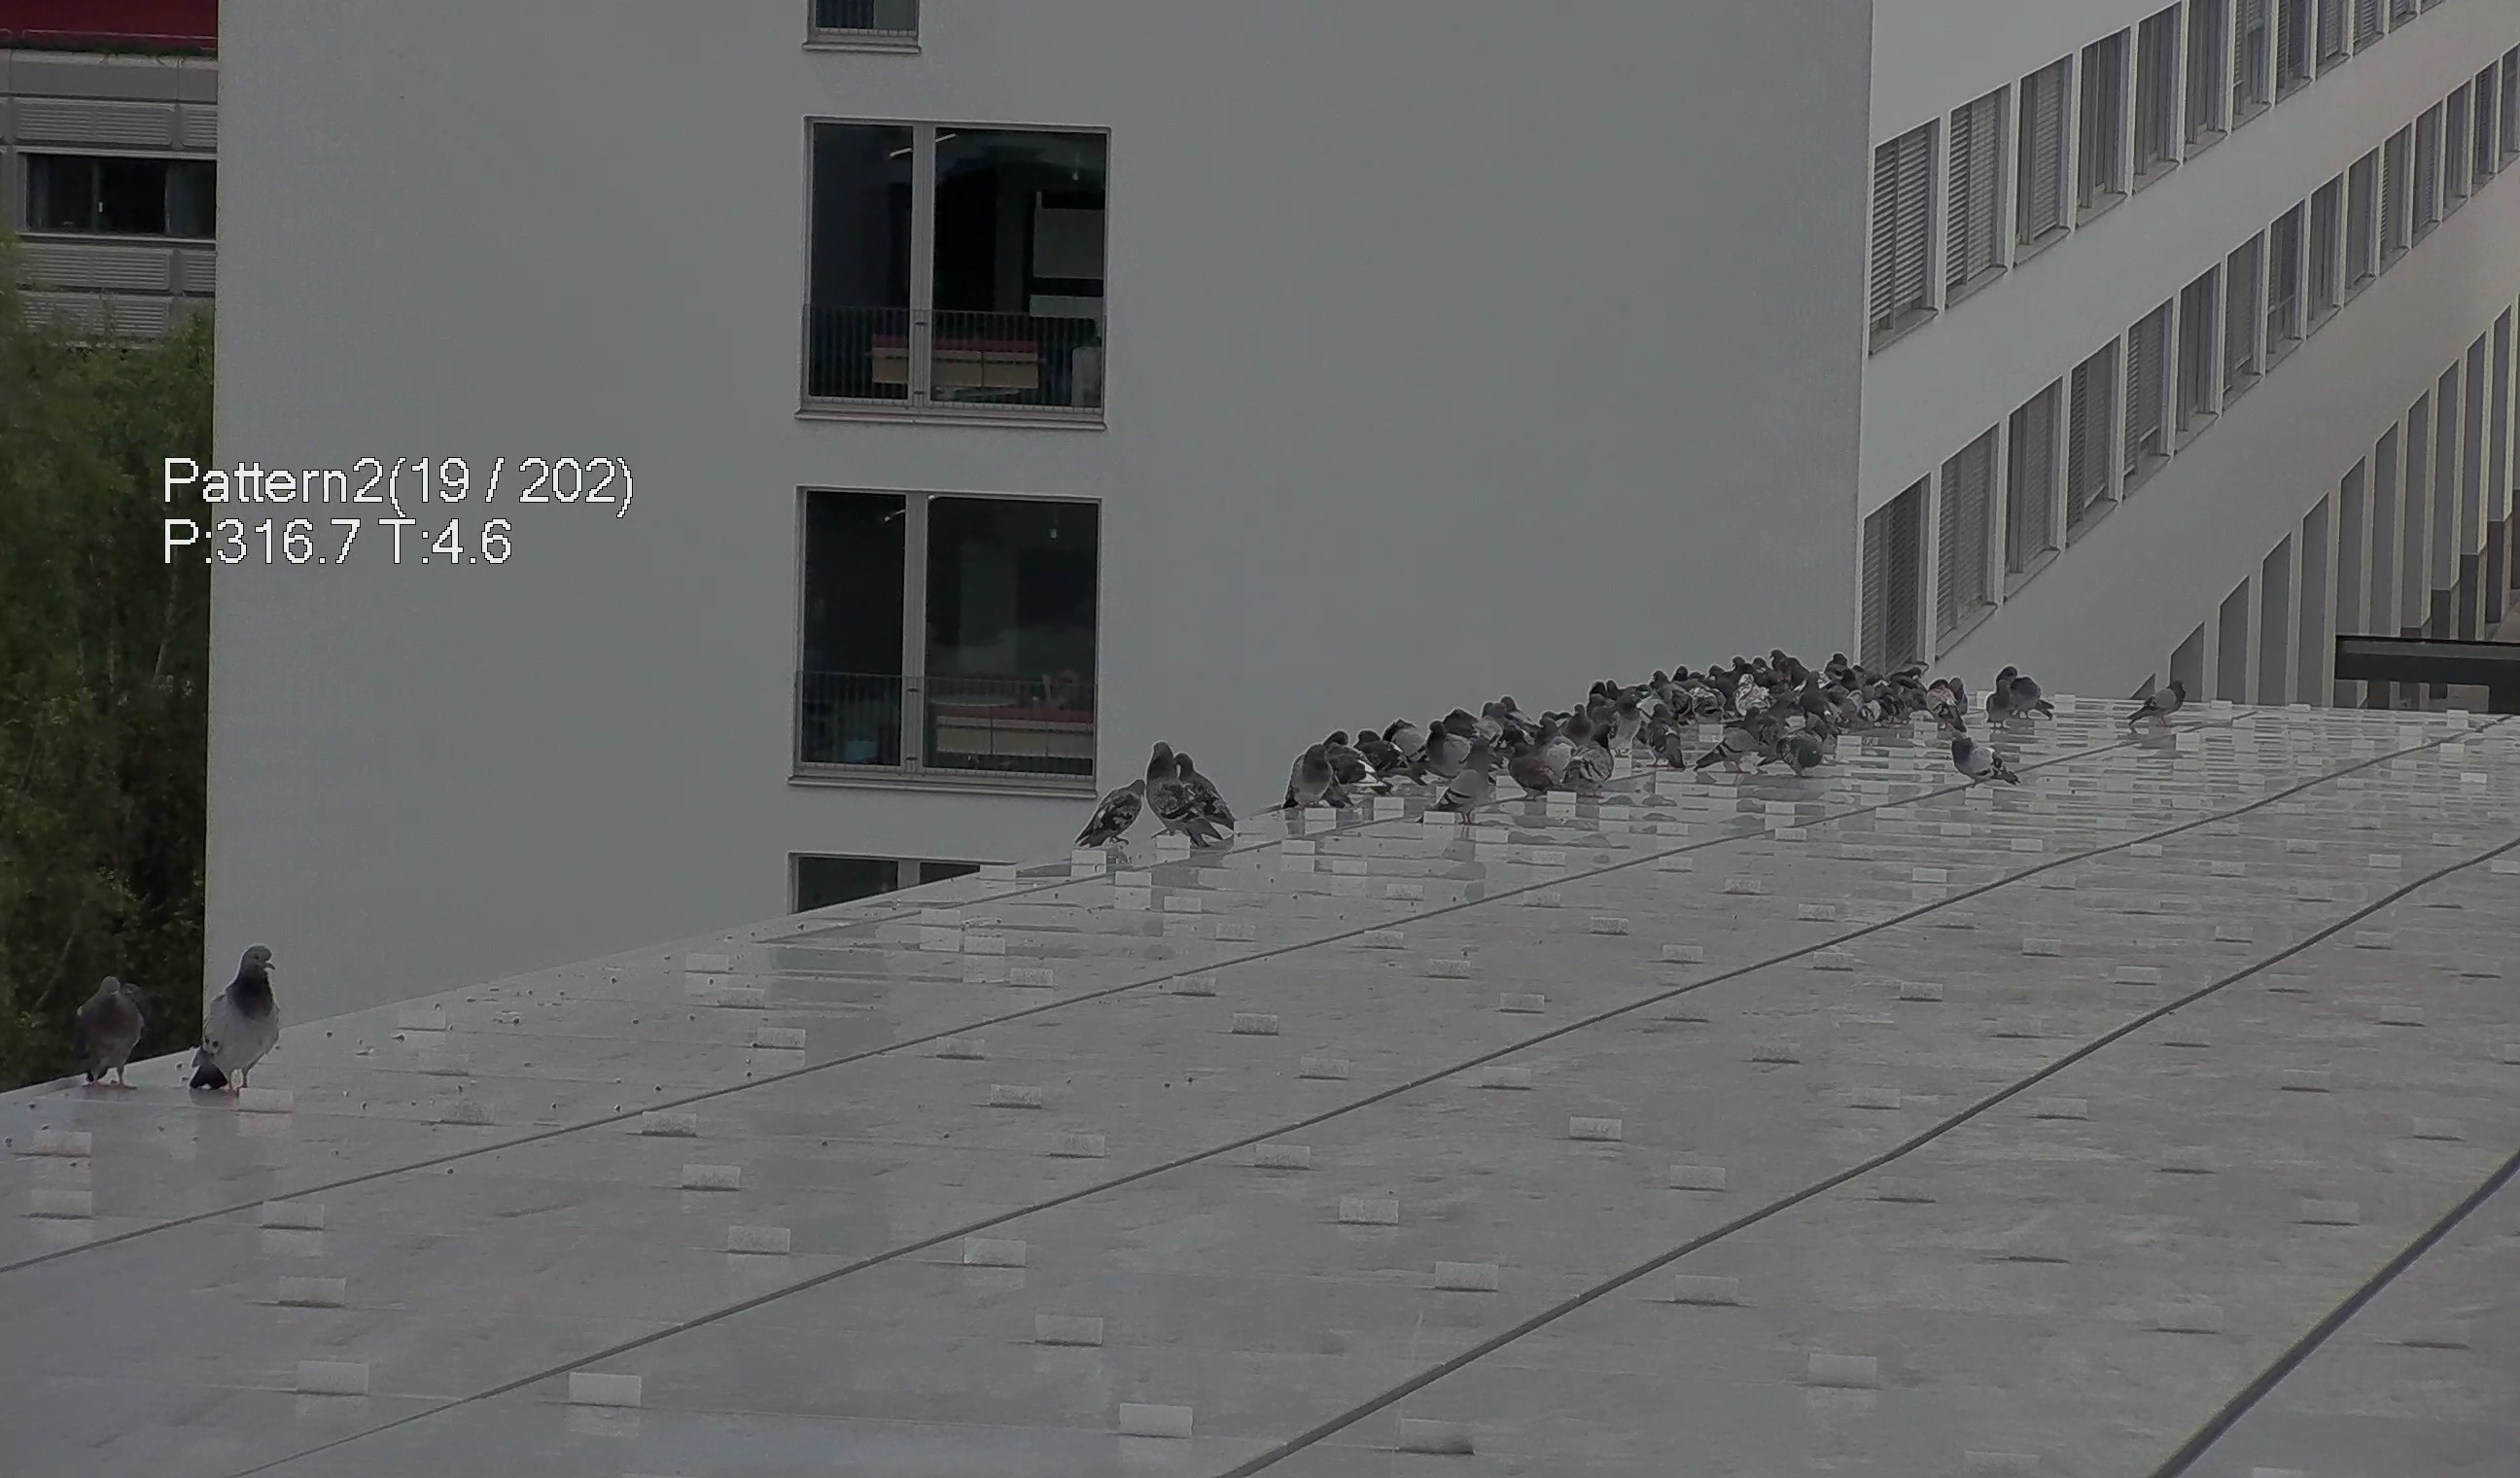Pigeon: (183, 941, 297, 1112), (63, 964, 160, 1096), (1073, 760, 1154, 869), (1143, 737, 1220, 848), (1941, 718, 2028, 787), (1173, 750, 1247, 829), (1430, 737, 1495, 823), (1648, 695, 1699, 787), (1764, 720, 1841, 776), (1695, 711, 1760, 778), (2117, 674, 2196, 728), (1277, 739, 1335, 813), (1512, 737, 1570, 808), (1574, 723, 1620, 802), (1926, 677, 1968, 741), (1426, 716, 1472, 772), (1984, 669, 2019, 735), (2008, 672, 2052, 716)
